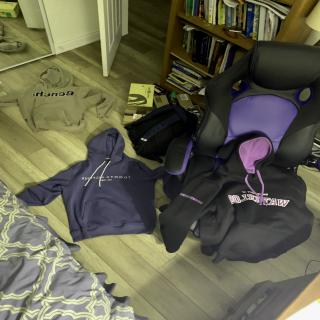Blue Hoodie: (18, 128, 165, 242)
Waterloo Hoodie: (159, 130, 314, 261)
Yellow Hoodie: (0, 66, 107, 130)
